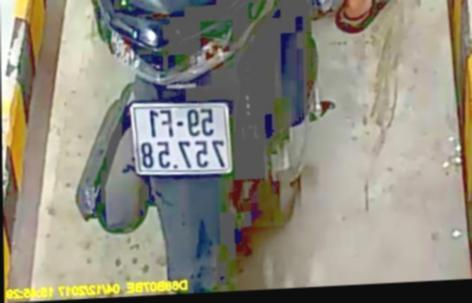License_Plate: (136, 98, 228, 177)
